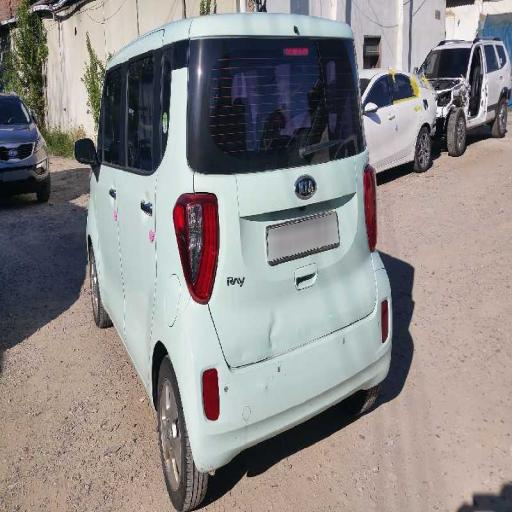broken: (246, 256, 308, 388)
